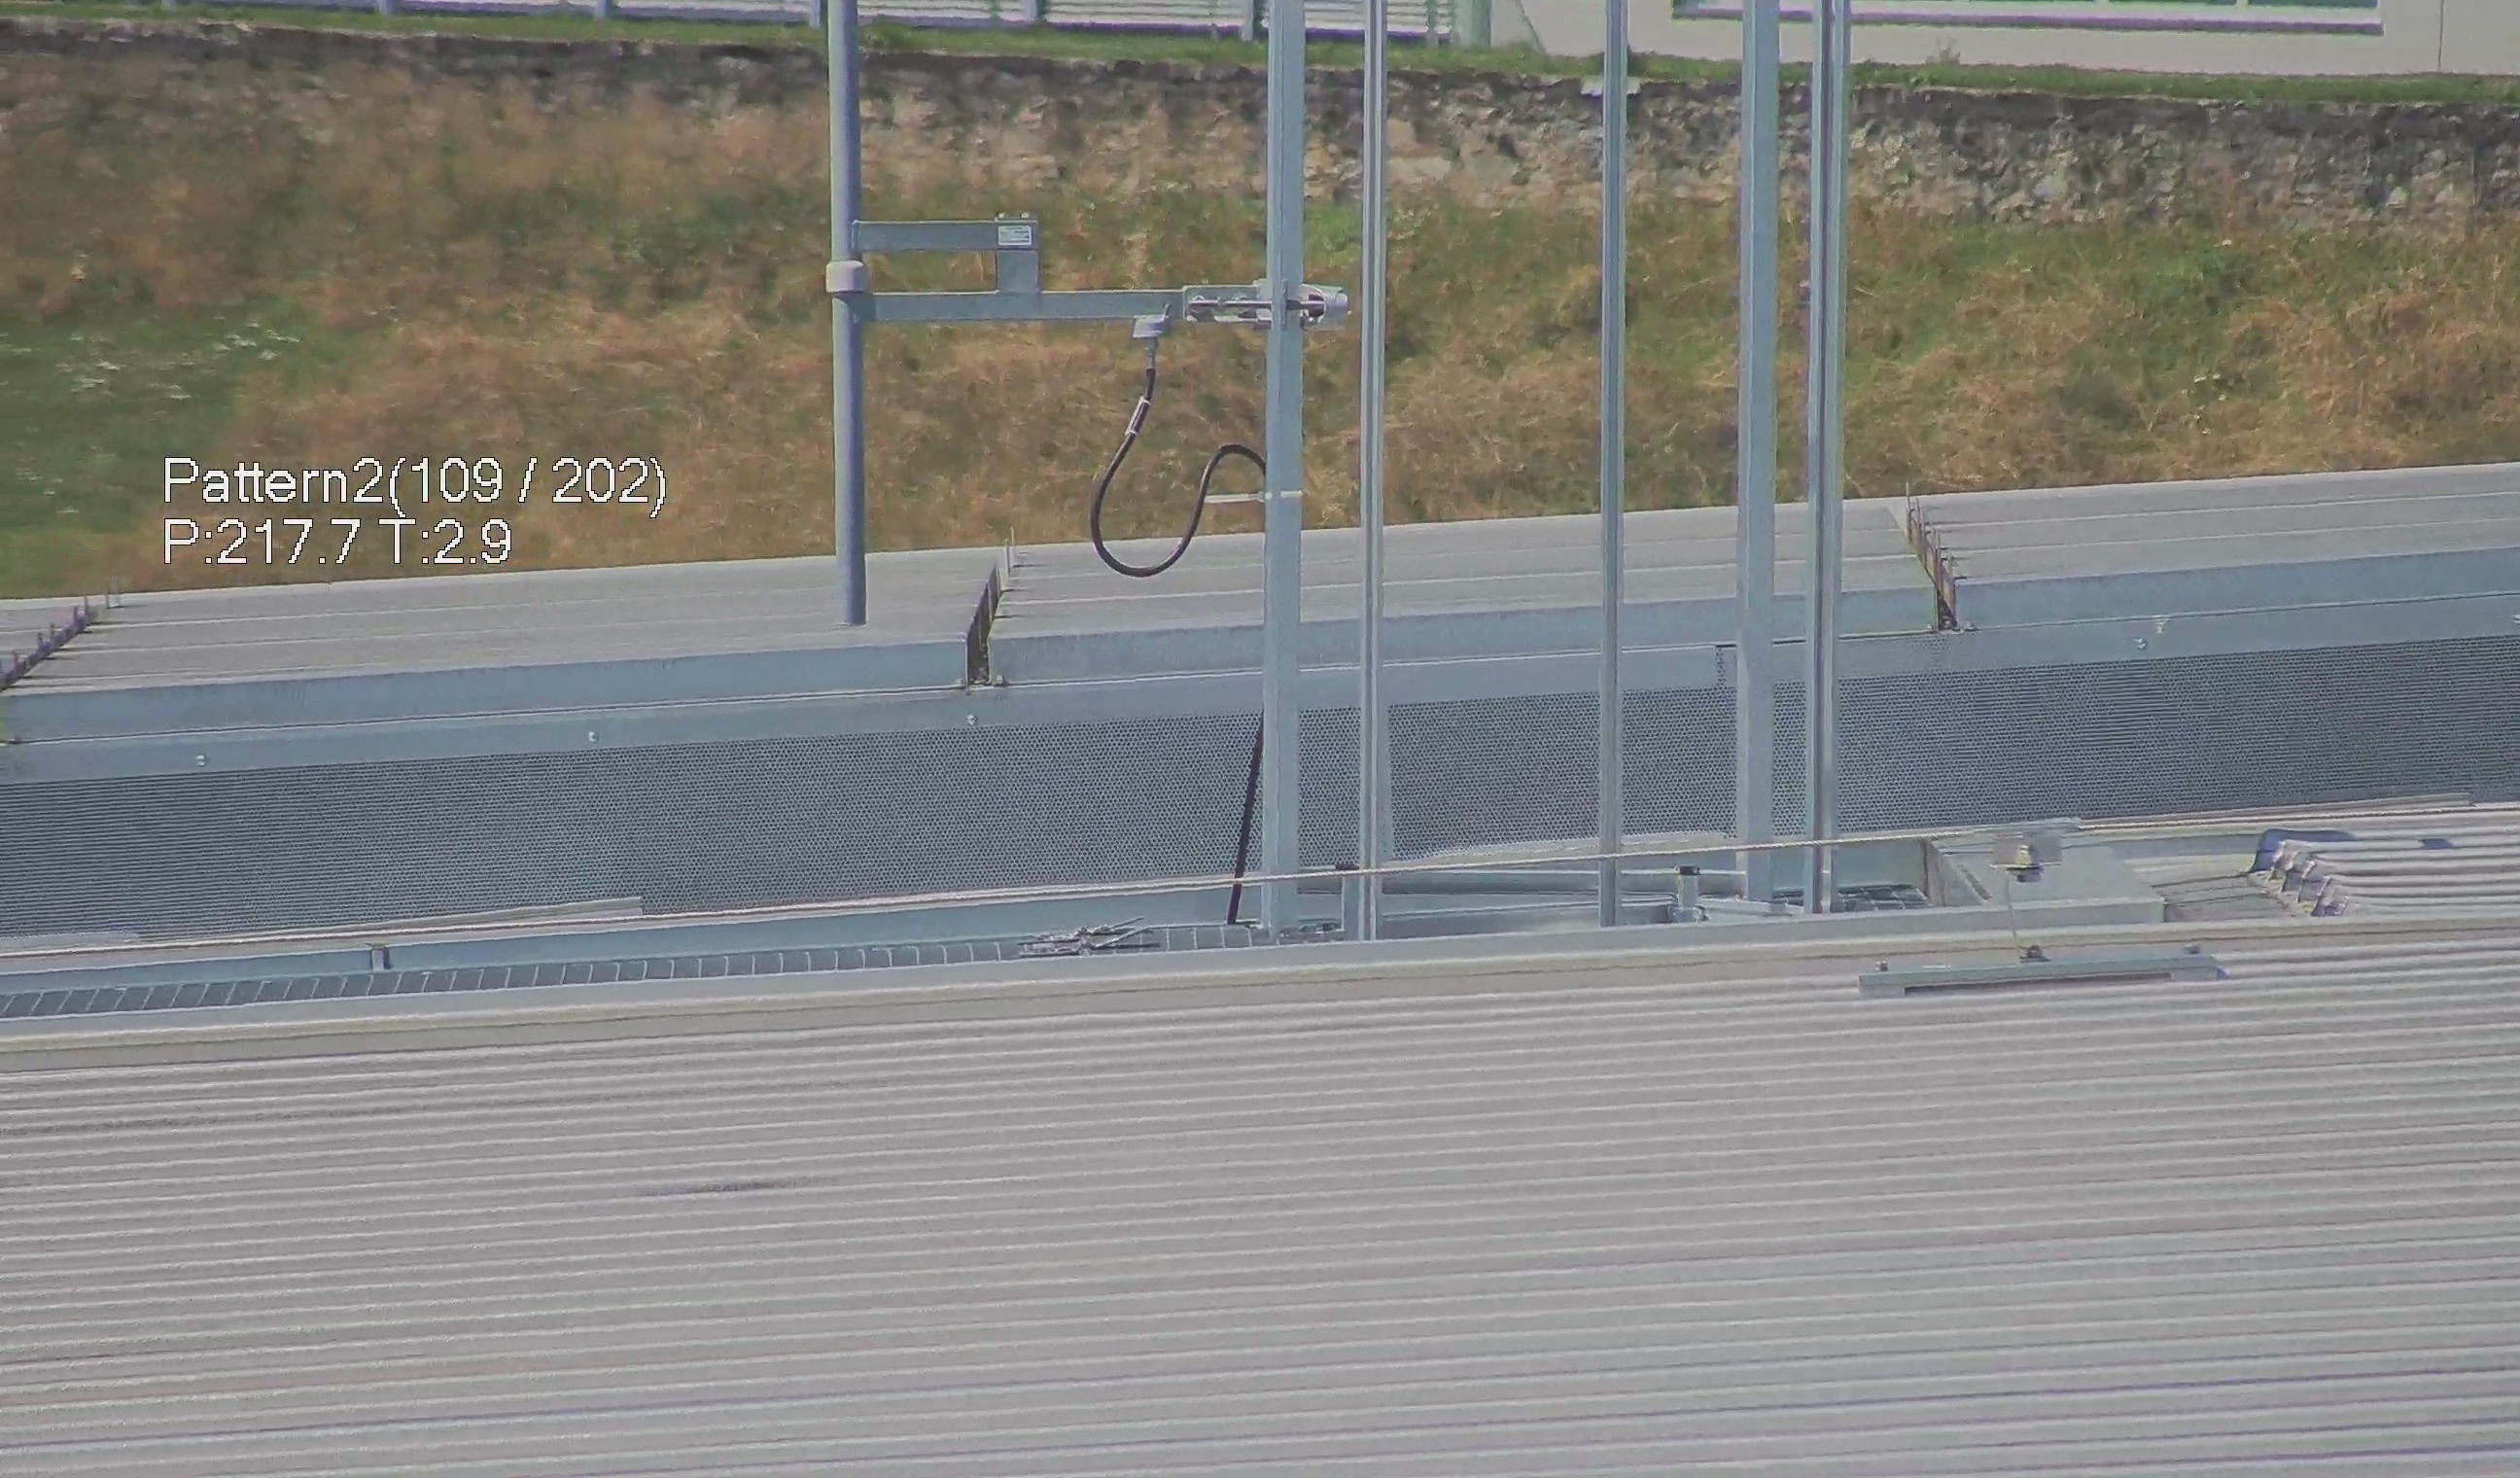Other: (944, 549, 1016, 690)
